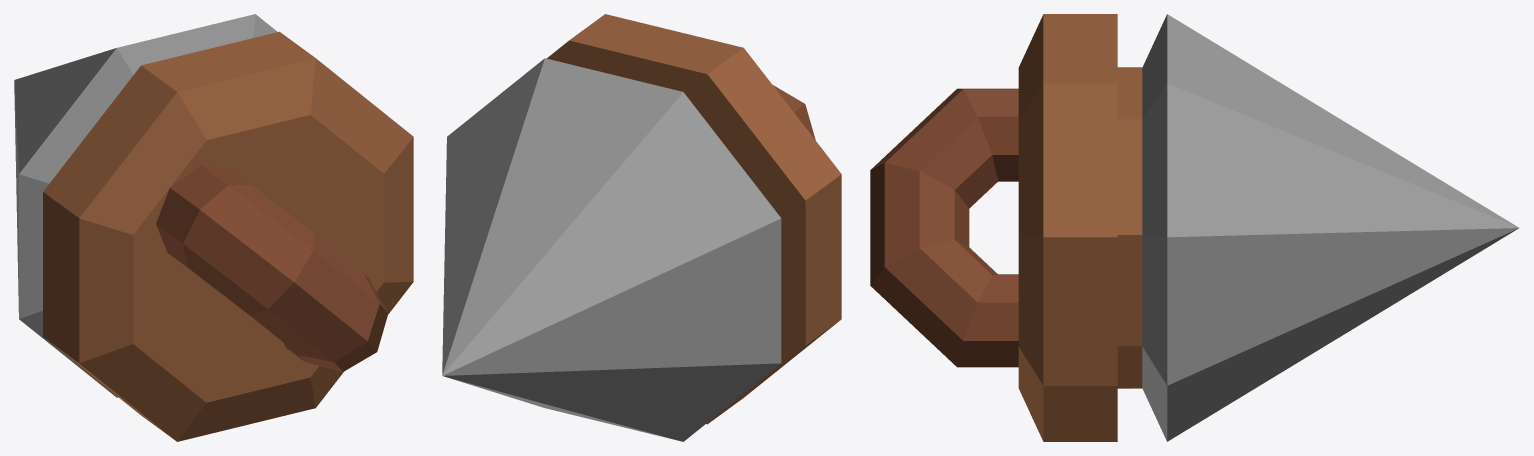
Rendered from drill.gltf.
3 views of the same model, side by side, from view 1: azimuth 30°, elevation 25°; view 2: azimuth 150°, elevation 25°; view 3: azimuth 270°, elevation 25° (orthographic). The views are drawn at different scales.
Parts seen in each view (by area): view 1: Base, Handle, Drill; view 2: Drill, Base, Handle; view 3: Drill, Base, Handle.
Part boxes in pixels (left/top/right/bottom): Base: left=43, top=31, right=413, bottom=441; Handle: left=156, top=165, right=388, bottom=371; Drill: left=14, top=14, right=277, bottom=397; Drill: left=442, top=58, right=781, bottom=441; Base: left=547, top=14, right=841, bottom=424; Handle: left=773, top=85, right=815, bottom=140; Drill: left=1130, top=14, right=1518, bottom=441; Base: left=1018, top=14, right=1129, bottom=441; Handle: left=870, top=88, right=1018, bottom=367.
Bounding box in the file's own units: 1 × 1 × 1.64.
Materials: 1 (1 with a texture image).
